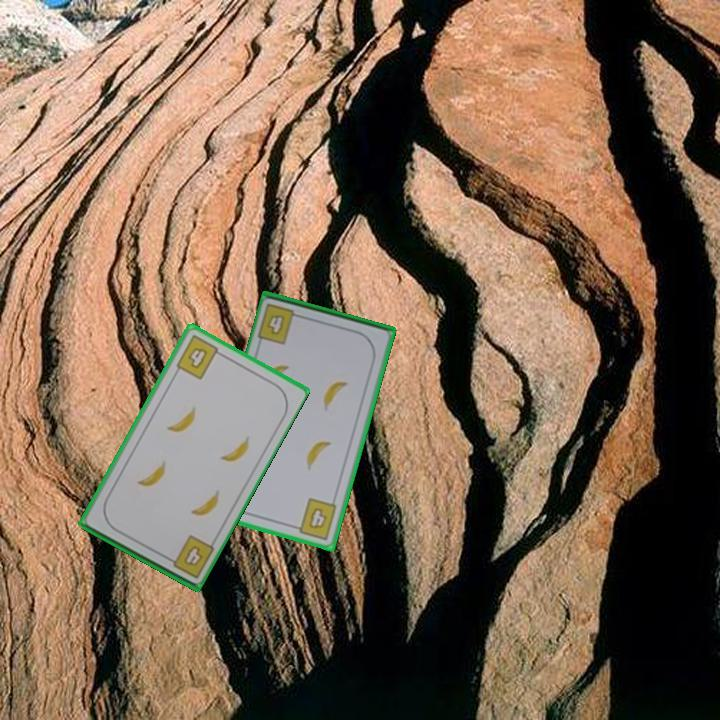4b: (172, 331, 226, 383), (162, 531, 217, 581), (290, 494, 340, 543), (255, 300, 306, 346)
